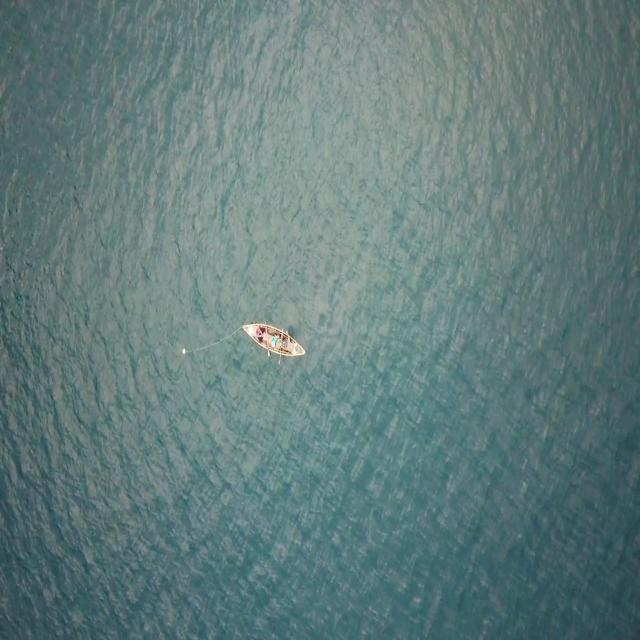ship: (238, 316, 310, 362)
